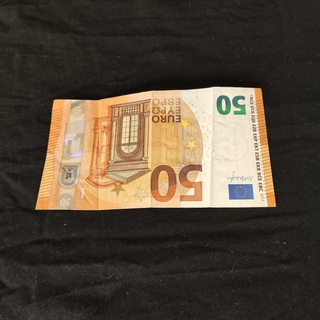50EUROFront: (34, 85, 277, 211)
